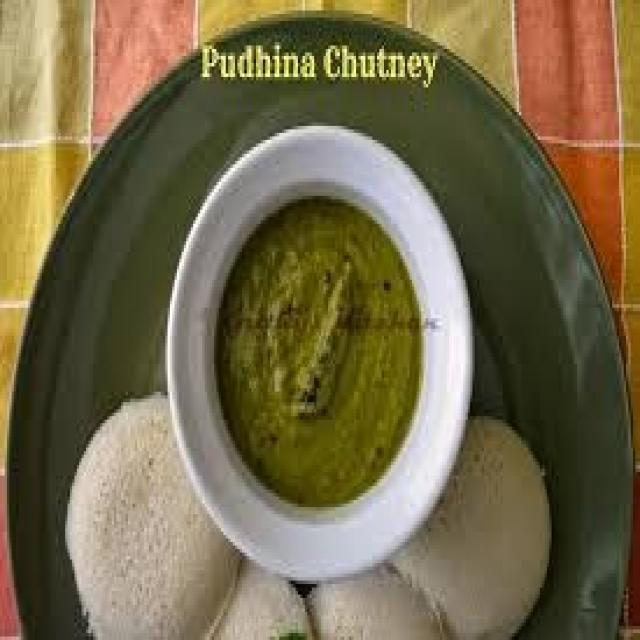puthina chutney: (208, 187, 425, 522)
